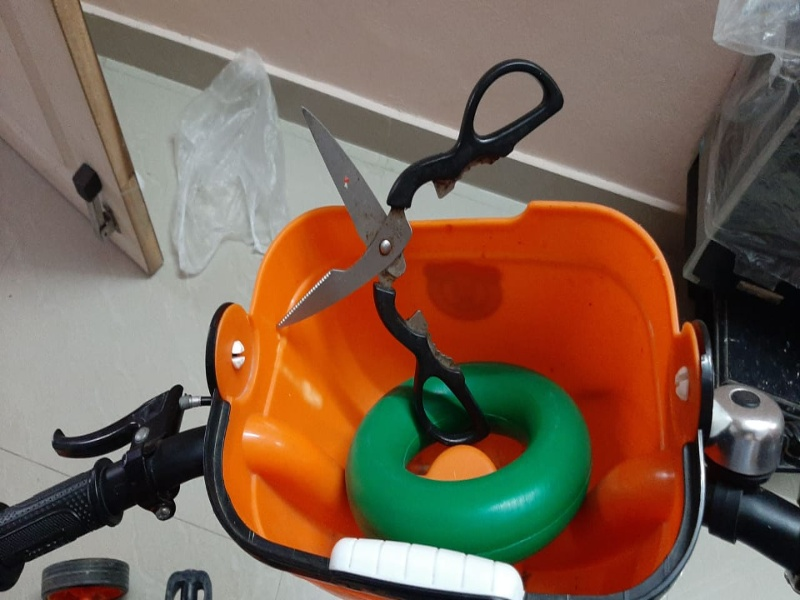scissor: (269, 54, 561, 454)
